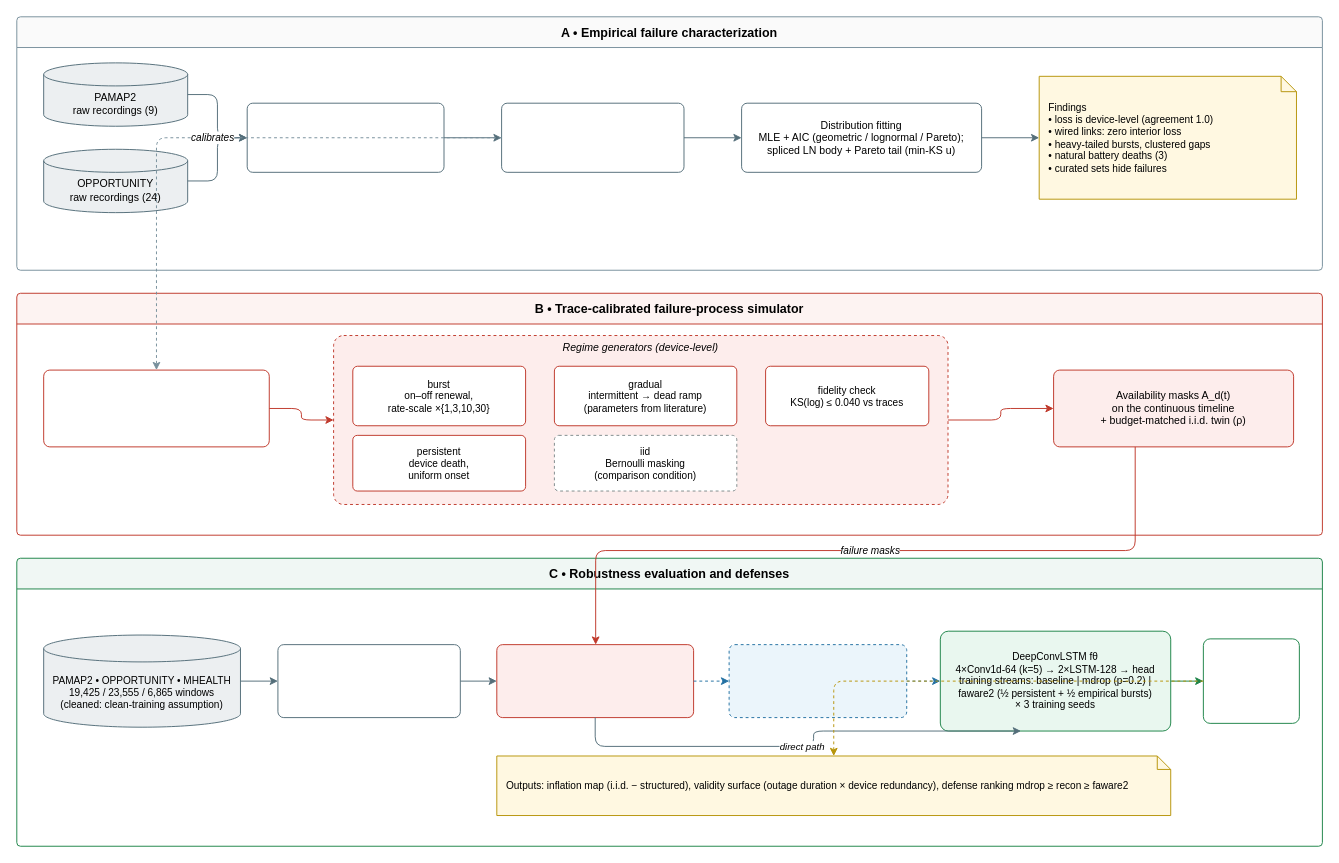
The diagram is 1339 pixels wide and 863 high, and some of its shapes have lost their labels. Each missing label, with the centre of its shape:
2 s windows (50% overlap), purity ≥ 0.5; LOSO 22 folds; per-fold z-normalization: [368,681]
Calibration pools empirical OFF / ON durations (catastrophic sessions excluded): [156,408]
ConvImputer gφ masked-MSE; frozen classifier (recon family only): [817,681]
Interior missing runs and availability gaps (23,353 loss events): [592,137]
macro-F1 fold medians; Wilcoxon + Holm (18 tests): [1250,680]
Per-device availability extraction from NaN patterns (448 boundary runs removed): [345,137]
Window-sliced mask application X̂ = M ⊙ X̃ (zeroing = mean imputation): [595,681]
